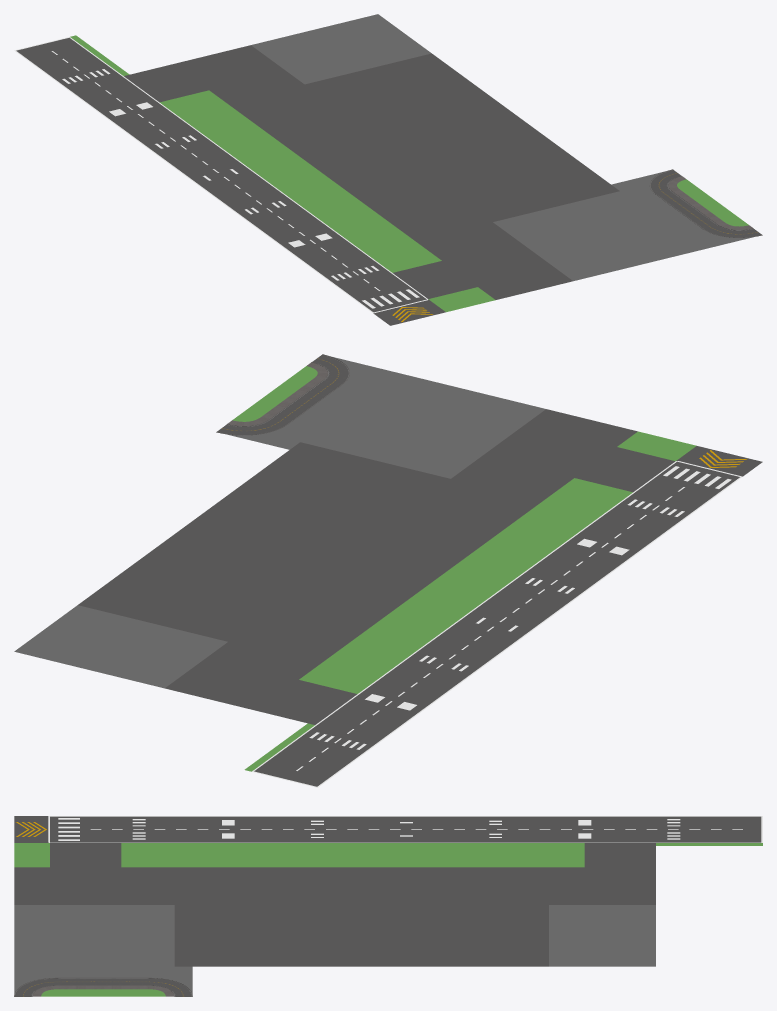
File: SM_Floor_Airport_01.fbx
3 views of the same model, one above another, from view 1: azimuth 30°, elevation 25°; view 2: azimuth 150°, elevation 25°; view 3: azimuth 270°, elevation 25° (orthographic). The views are drawn at different scales.
Visible parts, largest first — view 1: SM_Floor_Airport_01; view 2: SM_Floor_Airport_01; view 3: SM_Floor_Airport_01.
Part boxes in pixels (<box>): SM_Floor_Airport_01: <box>14,14,762,325</box>; SM_Floor_Airport_01: <box>14,354,762,787</box>; SM_Floor_Airport_01: <box>14,816,762,996</box>.
Bounding box in the file's own units: 120 × 0.075 × 210.
